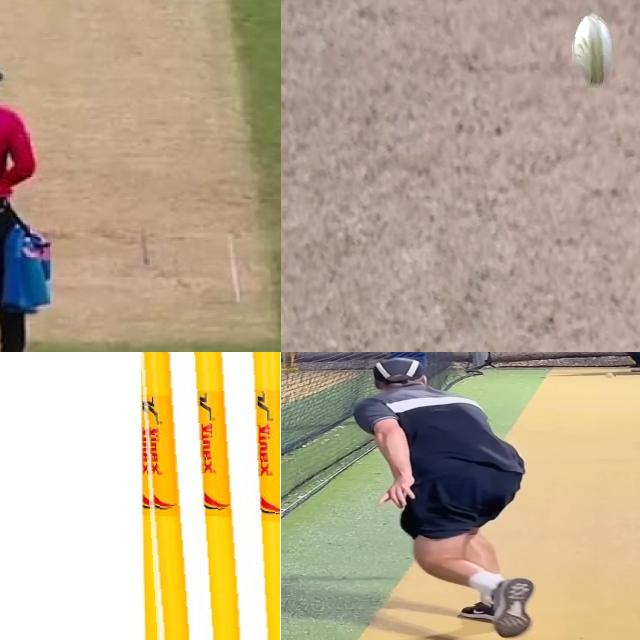Cricket ball: (571, 11, 612, 88), (604, 372, 616, 379)
Stumps: (138, 352, 280, 640)
